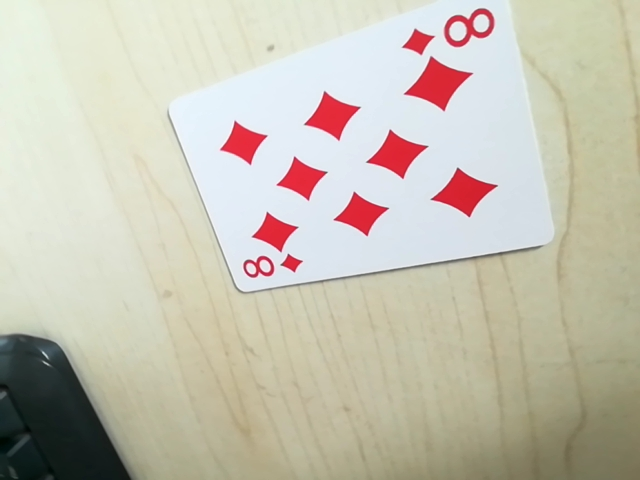fk 8: (404, 1, 502, 58), (236, 249, 306, 288)
